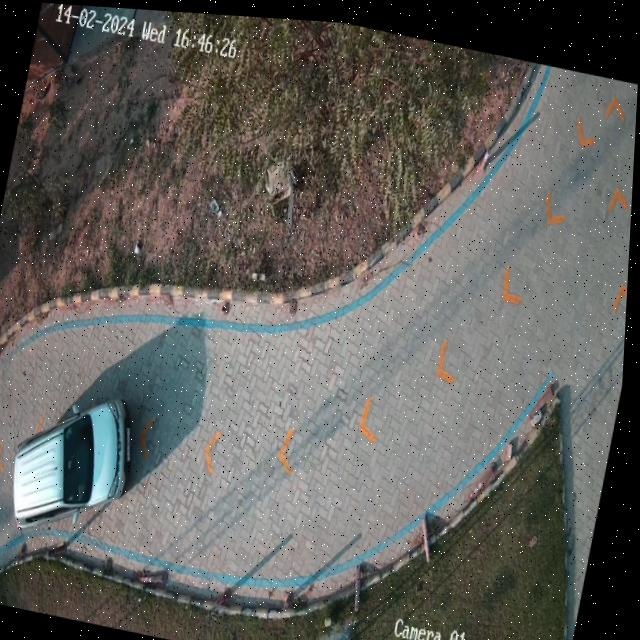car: (19, 395, 137, 531)
